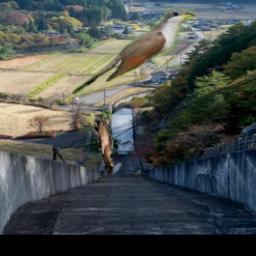Cuckoo: (73, 9, 196, 95)
Swallow: (94, 118, 114, 174)
